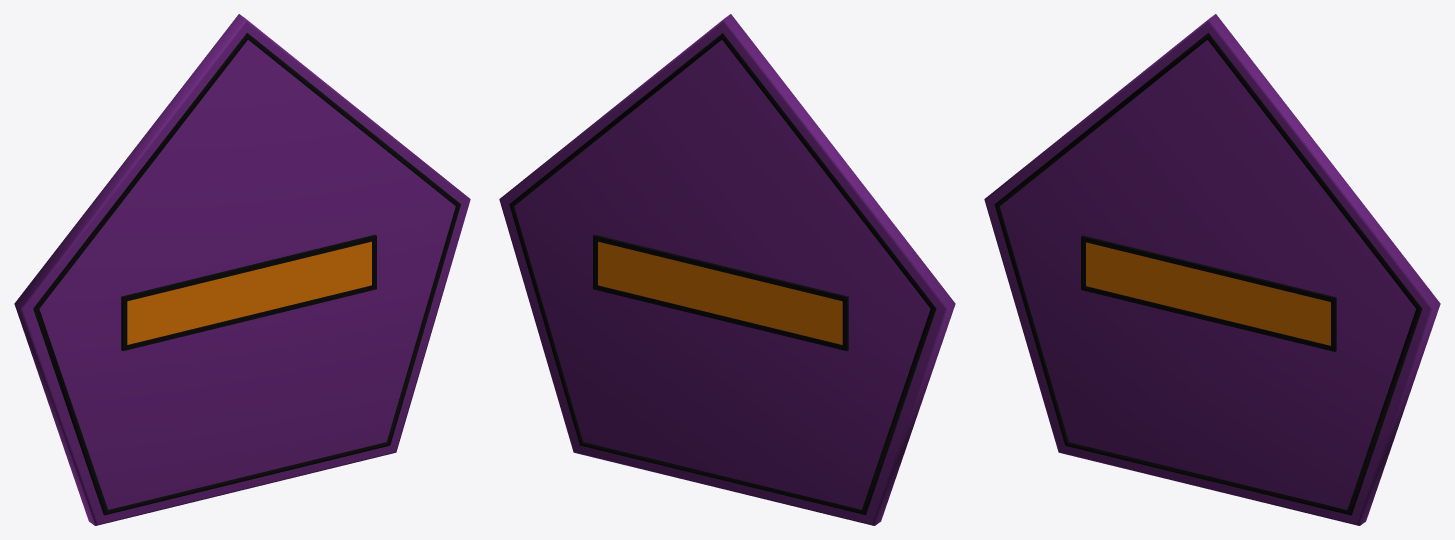
The model's file is Pentagon_1Line.fbx.
The picture shows the model from 3 angles, left to right: view 1: azimuth 30°, elevation 25°; view 2: azimuth 150°, elevation 25°; view 3: azimuth 330°, elevation 25°; orthographic projection.
Parts seen in each view (by area): view 1: outer_Pentagon1Line; view 2: outer_Pentagon1Line; view 3: outer_Pentagon1Line.
Boxes of the visible parts, x1=… form: outer_Pentagon1Line: x1=14, y1=14, x2=470, y2=525; outer_Pentagon1Line: x1=499, y1=14, x2=955, y2=525; outer_Pentagon1Line: x1=984, y1=14, x2=1440, y2=525.
Size of the model in its own units: 150 by 150 by 6.78.
Materials: 4 (4 with a texture image).
